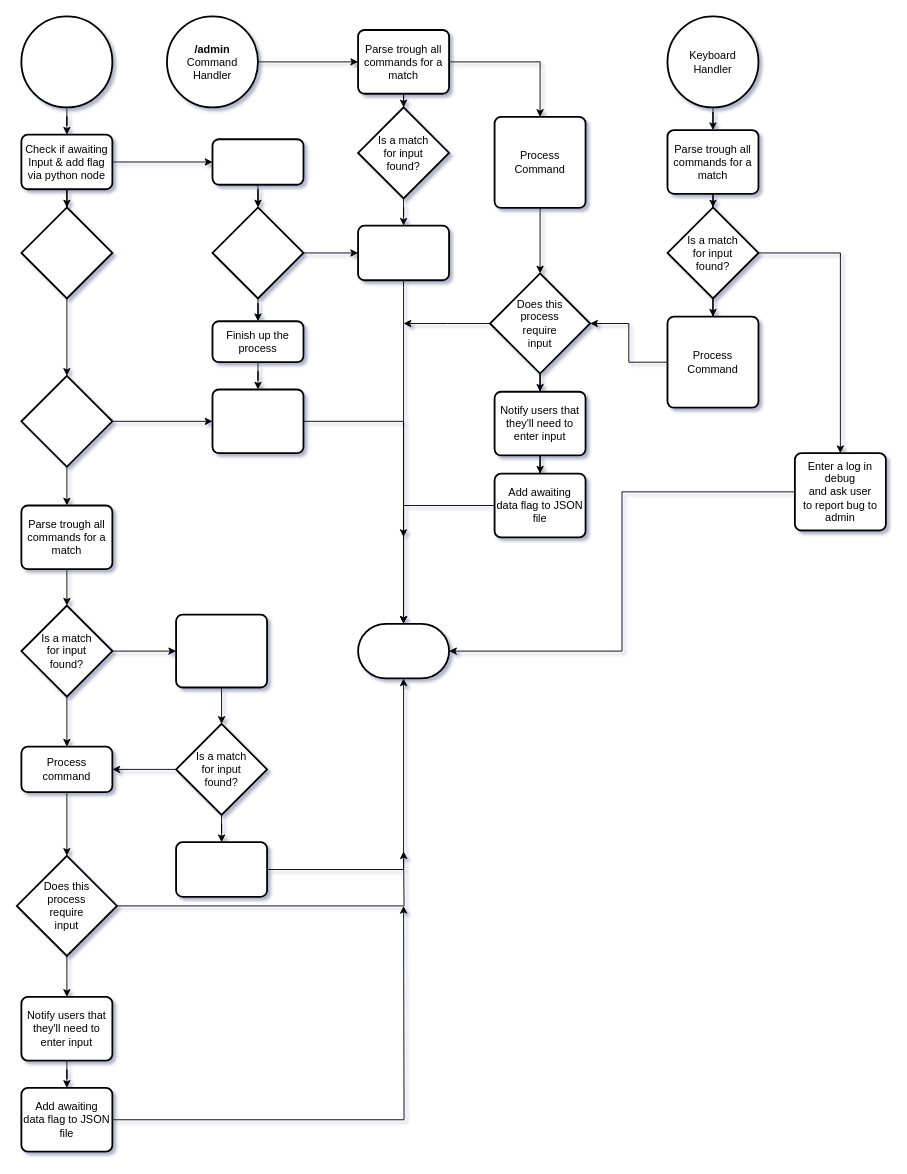
This 907x1174 diagram has some shape labels left out. Each missing label, with the centre of its shape:
Attempt to find match via natural language with AIML: the point at 221,650
Delete expecting input flag from JSON file: the point at 257,421
End: the point at 403,650
Is input /cancel ?: the point at 66,420
Is input from user valid: the point at 257,252
Is system awaiting input flag true: the point at 66,252
Notify the user the input was invalid: the point at 403,252
Parse input and validate file: the point at 257,161
Plain text Listener: the point at 66,61
Send the user "Im sorry, what?": the point at 221,869
